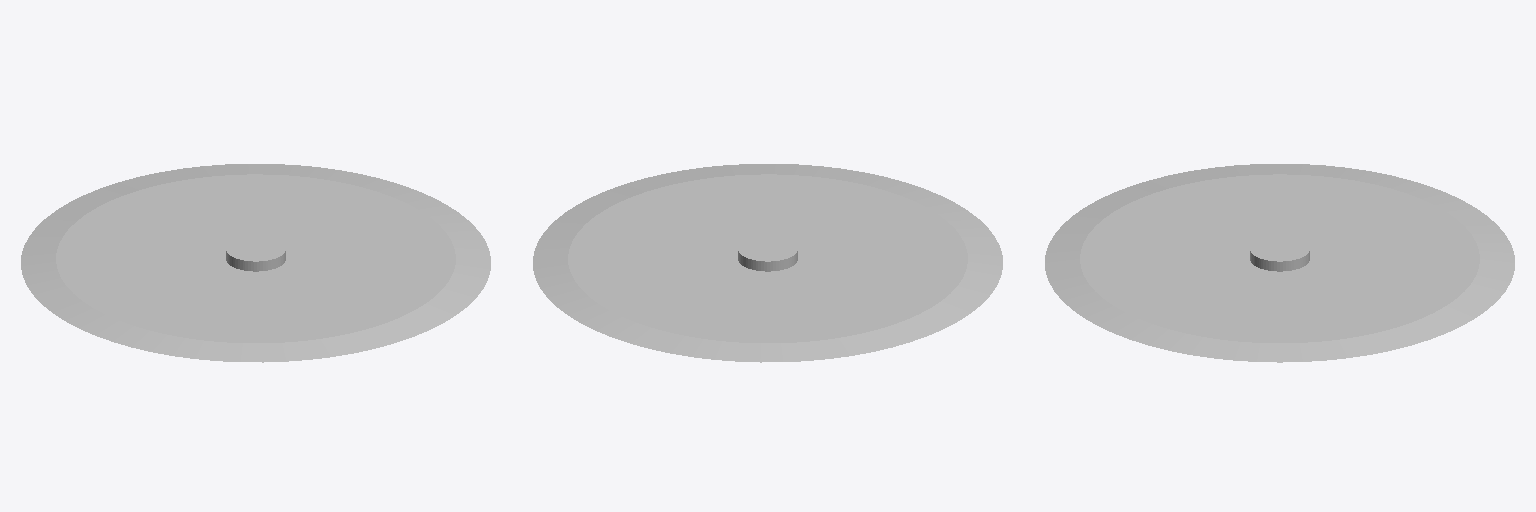
The model's file is cutter_blade.obj.
3 views of the same model, side by side, from view 1: azimuth 30°, elevation 25°; view 2: azimuth 150°, elevation 25°; view 3: azimuth 270°, elevation 25° (orthographic).
Parts seen in each view (by area): view 1: Cylinder.001_Cylinder.002; view 2: Cylinder.001_Cylinder.002; view 3: Cylinder.001_Cylinder.002.
Boxes of the visible parts, <box> form: Cylinder.001_Cylinder.002: <box>21,164,490,362</box>; Cylinder.001_Cylinder.002: <box>533,164,1002,362</box>; Cylinder.001_Cylinder.002: <box>1045,164,1514,362</box>.
Bounding box in the file's own units: 5.27 × 0.1749 × 5.27.